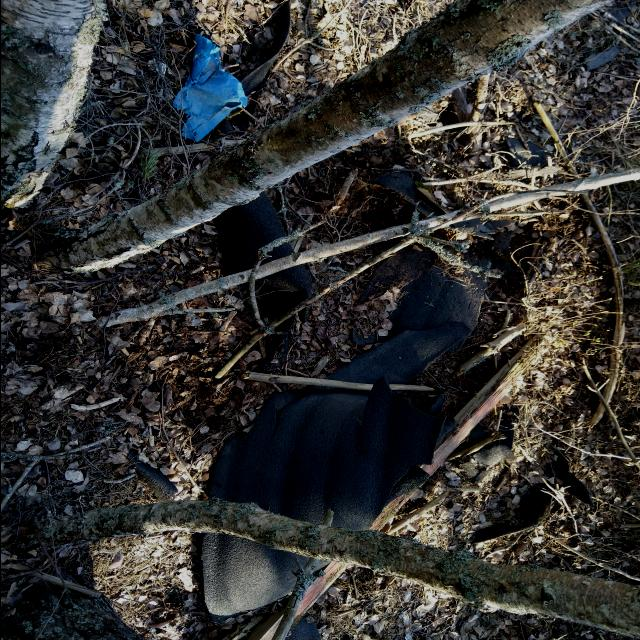Other plastic bottle: (469, 460, 594, 544), (458, 406, 518, 484), (127, 448, 178, 501), (504, 137, 552, 167), (284, 614, 319, 640)
Plastic film: (172, 33, 247, 142)
Styrofoam piece: (145, 57, 165, 75)
